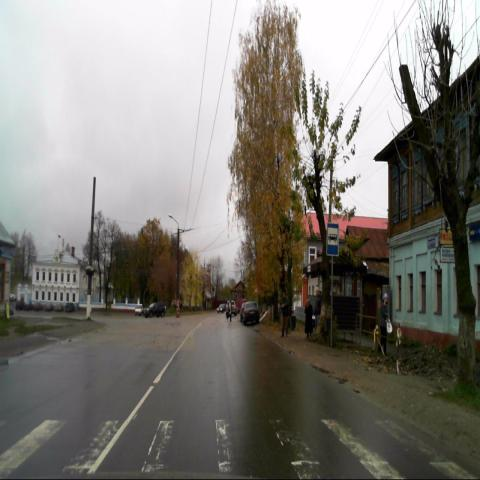5_16: (327, 223, 338, 256)
